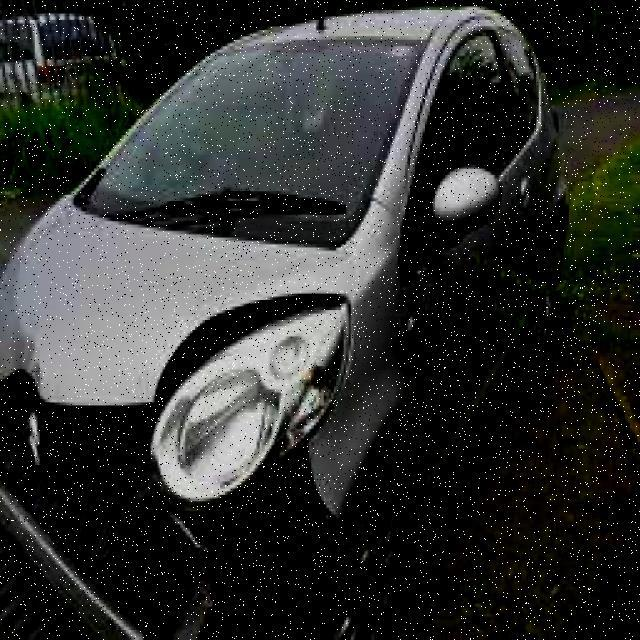car damage: (1, 269, 440, 640)
